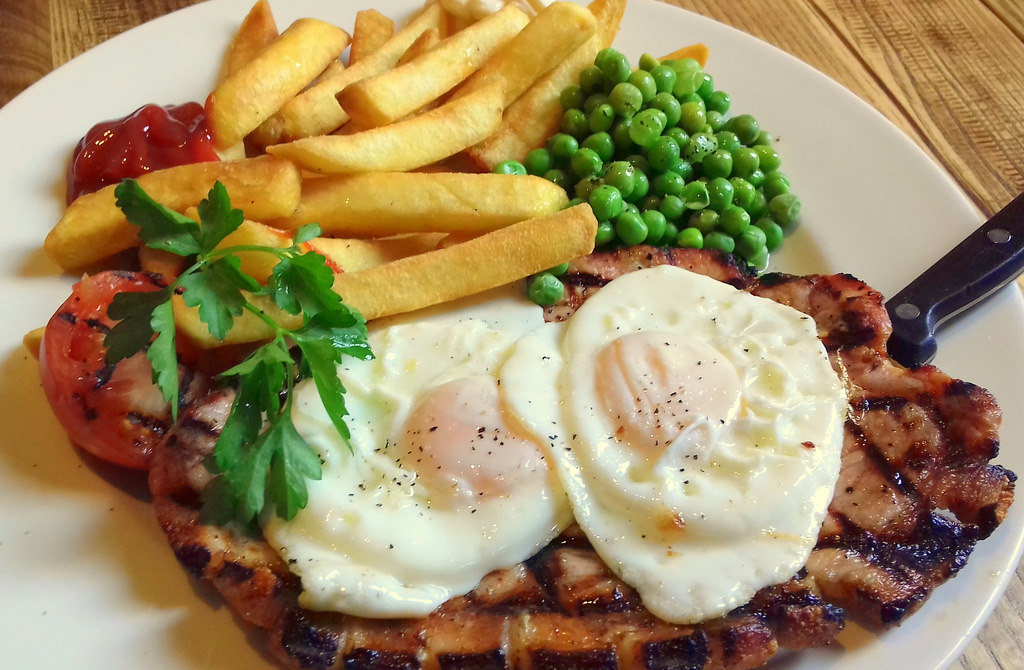fried egg: (527, 291, 844, 609), (264, 291, 583, 600)
